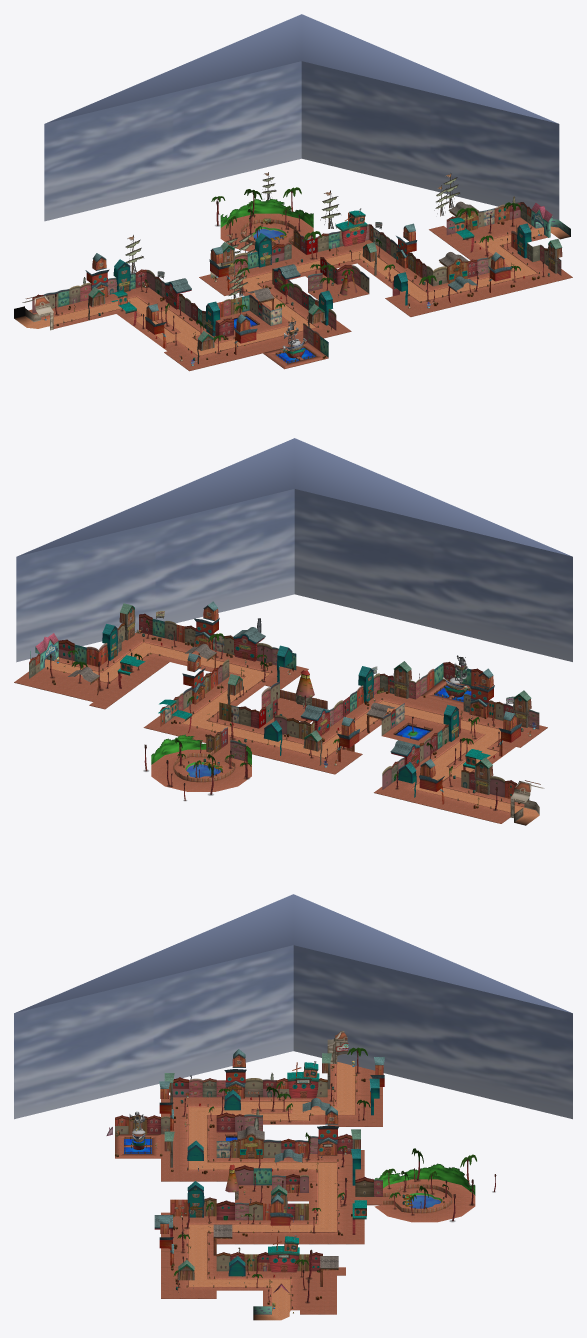
File: lighthouse_lane.glb
3 views of the same model, one above another, from view 1: azimuth 30°, elevation 25°; view 2: azimuth 150°, elevation 25°; view 3: azimuth 270°, elevation 25° (orthographic). The views are drawn at different scales.
Parts seen in each view (by area): view 1: skypanel4, skypanel5, o1, o130 (×3), MMpd_outsideground, dod_HQ, DDpd_outsidebackground, DD_D1_mast, building1_landmark5c_sideL; view 2: skypanel1, skypanel6, o1, o130 (×6), MMpd_outsideground, street_sidewalk_40x40_sidewalk (×2), dod_HQ, DDpd_outsidebackground, building1_landmark4c_sideL, DD_street_water_boardwalk, DDpd_ground; view 3: skypanel2, skypanel3, o1, MMpd_outsideground, DD_D1_mast (×2), o130 (×2), dod_HQ, street_sidewalk_40x40_sidewalk (×2), DDpd_outsidebackground, building1_landmark5c_sideL, DDpd_fence, DDpd_ground.
Boxes of the visible parts, x1,y1,x2,y2 form: skypanel4: (44, 61, 301, 221); skypanel5: (301, 61, 559, 219); o1: (45, 14, 557, 123); o130 (×3): (85, 223, 417, 354); MMpd_outsideground: (220, 213, 313, 252); dod_HQ: (263, 338, 328, 369); DDpd_outsidebackground: (220, 199, 313, 227); DD_D1_mast: (335, 208, 367, 246); building1_landmark5c_sideL: (439, 252, 468, 283); skypanel1: (294, 489, 572, 661); skypanel6: (16, 489, 294, 662); o1: (17, 438, 571, 556); o130 (×6): (182, 601, 521, 804); MMpd_outsideground: (151, 749, 251, 791); street_sidewalk_40x40_sidewalk (×2): (30, 673, 111, 701); dod_HQ: (421, 675, 471, 706); DDpd_outsidebackground: (151, 734, 251, 764); building1_landmark4c_sideL: (233, 627, 265, 661); DD_street_water_boardwalk: (382, 719, 442, 744); DDpd_ground: (174, 753, 233, 778); skypanel2: (14, 945, 293, 1119); skypanel3: (293, 945, 572, 1119); o1: (15, 894, 571, 1012); MMpd_outsideground: (374, 1179, 475, 1222); DD_D1_mast (×2): (268, 1061, 319, 1272); o130 (×2): (224, 1049, 338, 1155); dod_HQ: (115, 1128, 160, 1158); street_sidewalk_40x40_sidewalk (×2): (300, 1275, 336, 1306); DDpd_outsidebackground: (374, 1163, 475, 1194); building1_landmark5c_sideL: (237, 1125, 264, 1158); DDpd_fence: (383, 1184, 452, 1213); DDpd_ground: (383, 1188, 451, 1209).
Bounding box in the file's own units: 698 × 357 × 604.
Materials: 261 (259 with a texture image).
